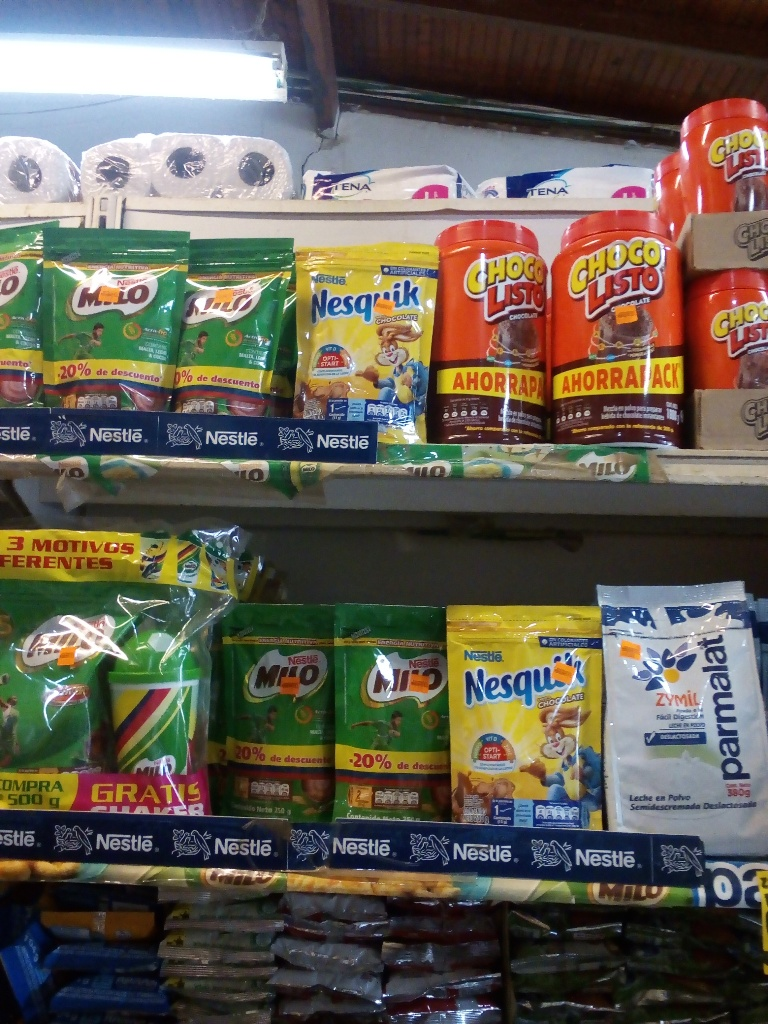COL0170103TRR00100: (427, 212, 553, 448)
